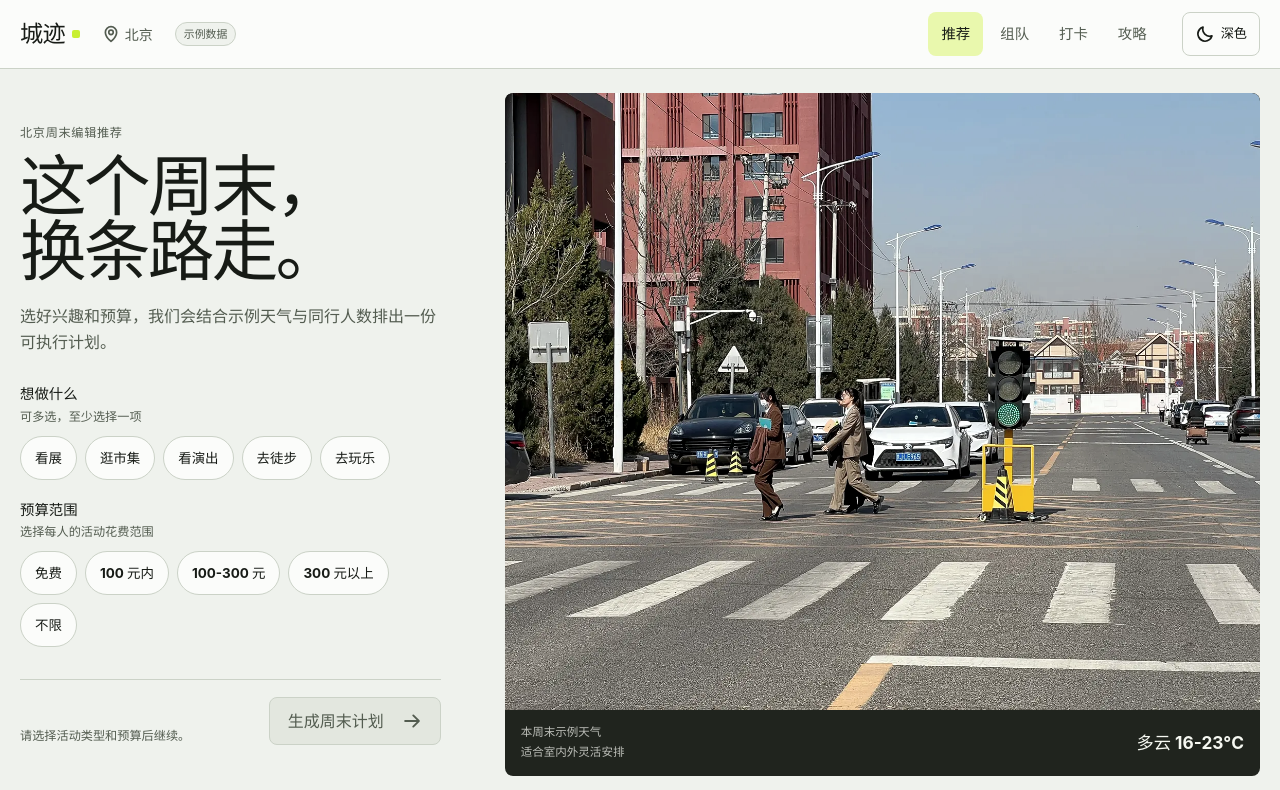
generates a premium entertainment plan
Click the checkbox labelled "去玩乐": (355, 458) x1=320 y1=436 x2=390 y2=480
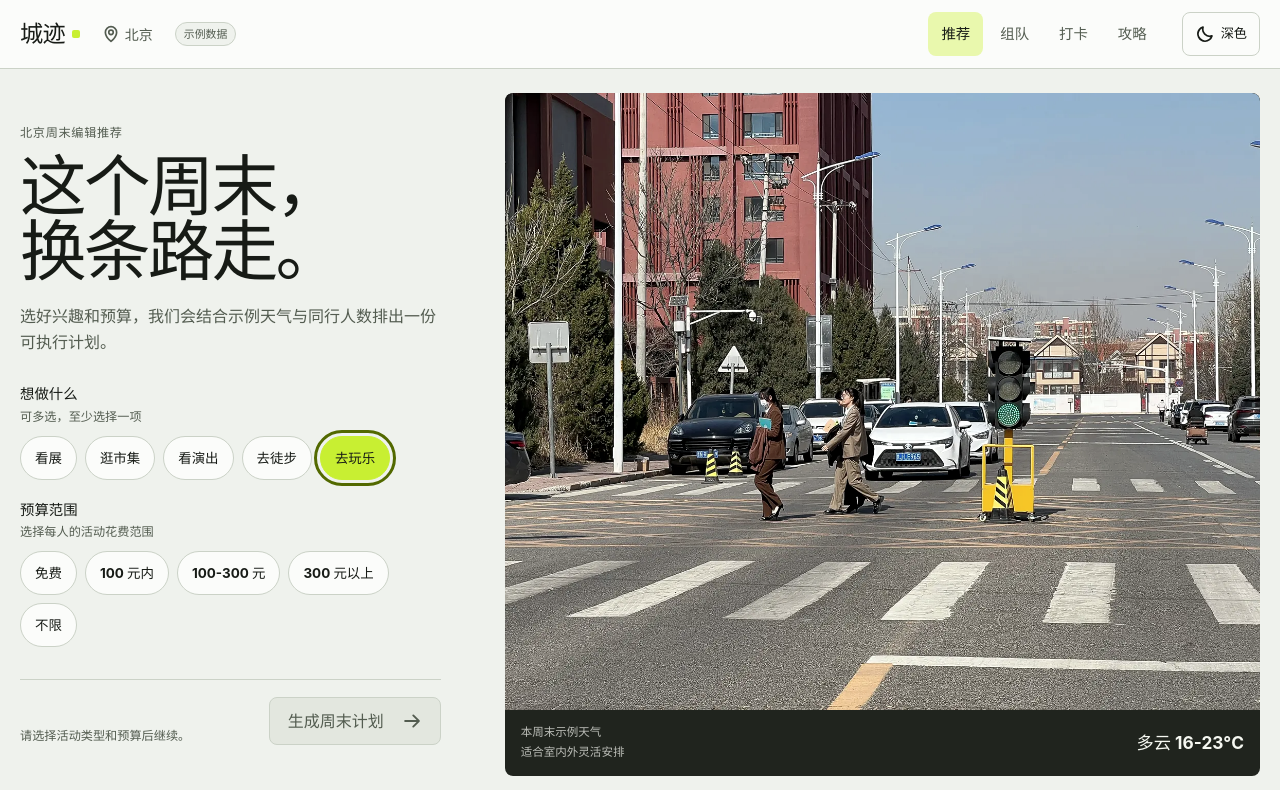
Click the radio button labelled "300 元以上": (339, 573) x1=288 y1=551 x2=389 y2=595
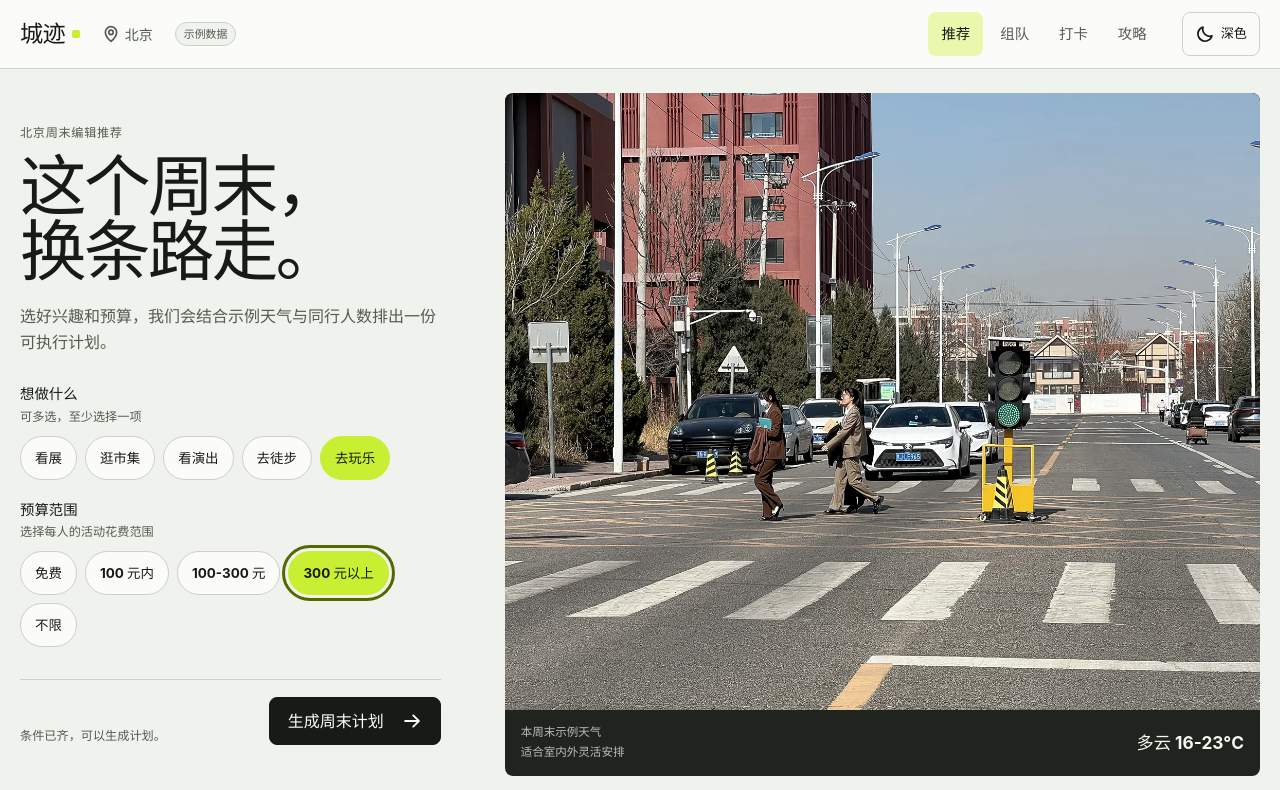
Click the button "生成周末计划": (355, 721) x1=269 y1=697 x2=441 y2=745
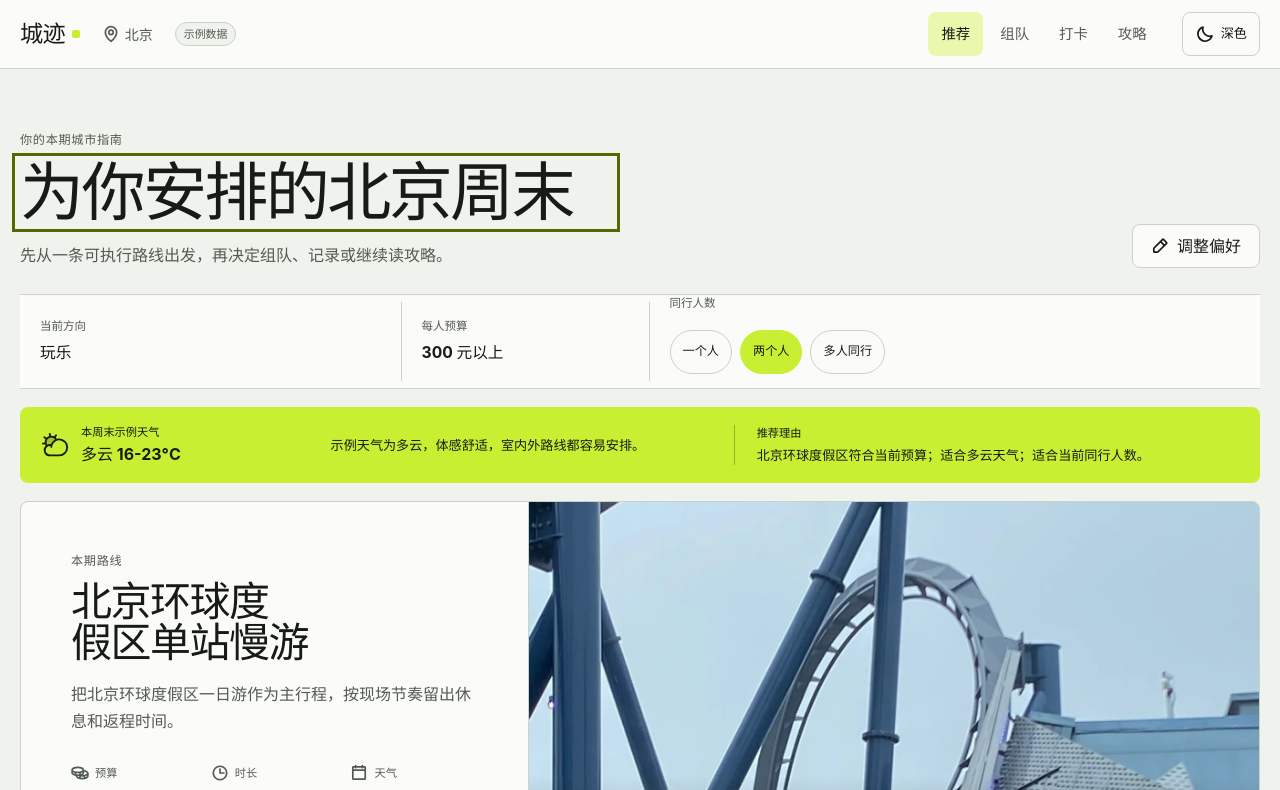
Check: the element named "当前偏好" shows "玩乐", box x1=40 y1=343 x2=71 y2=362
Check: the element named "当前偏好" shows "300 元以上", box x1=422 y1=343 x2=504 y2=362
